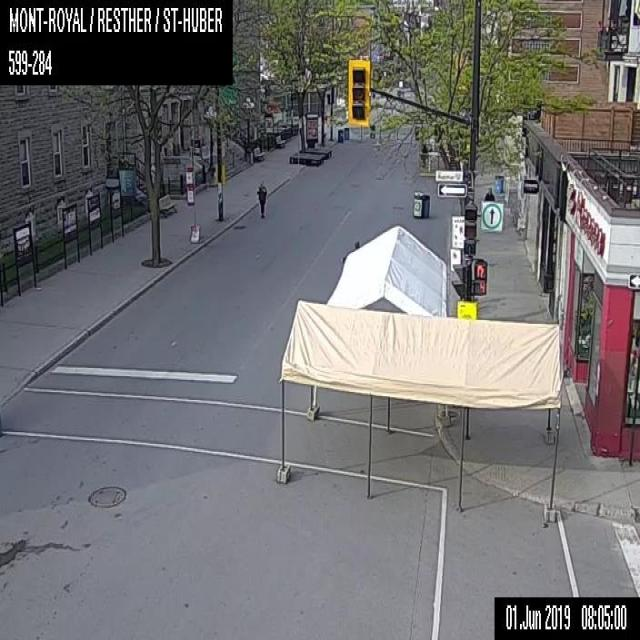pedestrian: (256, 180, 266, 218), (483, 186, 495, 200)
